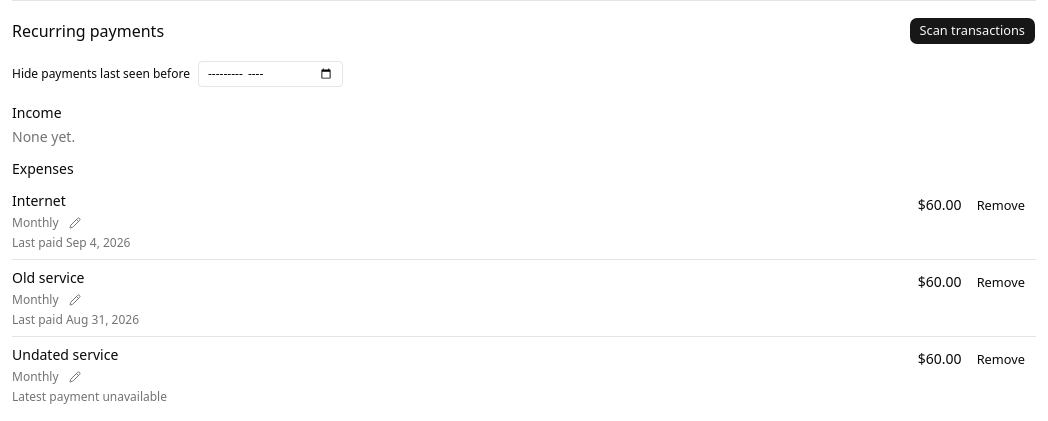
it: hides payments before the chosen month without hiding unknown dates
The width and height of the screenshot is (1048, 421).
Expected: the text "Old service" is shown, [12,268,84,287]
Type "2026-09" into the field labelled "Hide payments last seen before" at (270, 74), box [198,61,343,87]
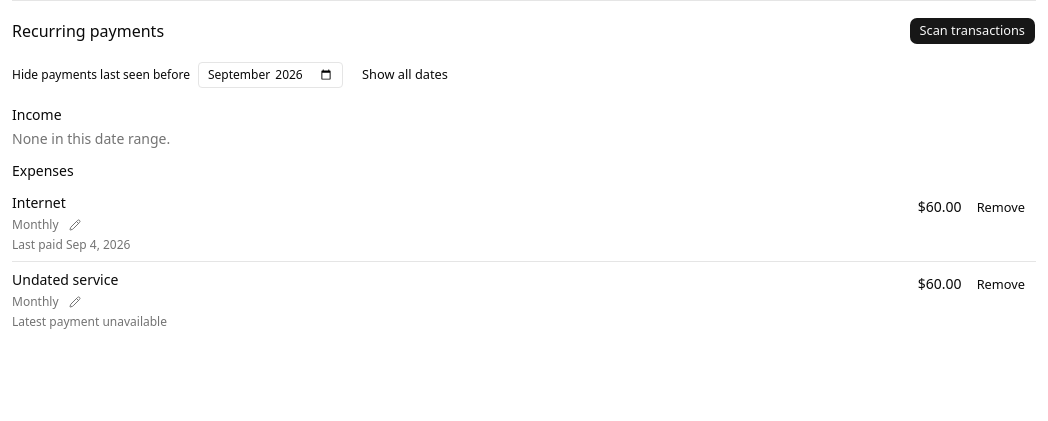
Expected: the text "Internet" is shown, [12,193,66,212]
Now the text "Old service" is gone
Click the button "Show all dates" at (405, 75), box [351,61,459,89]
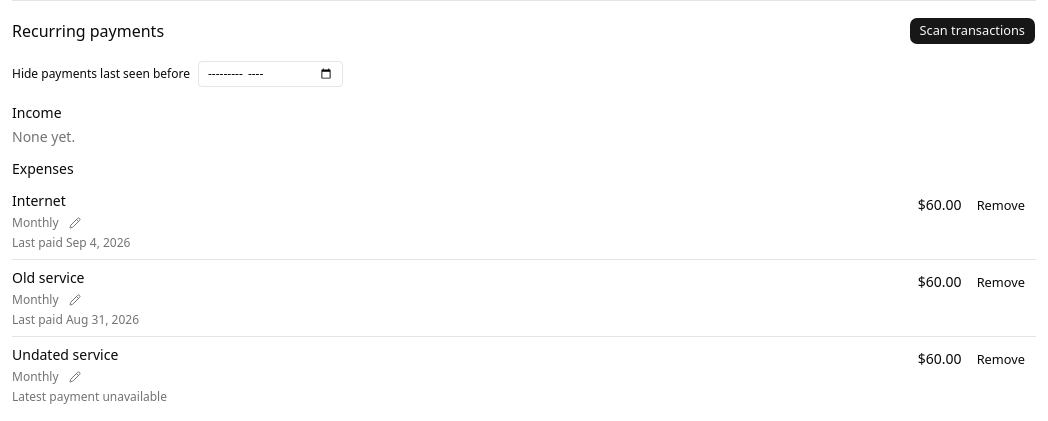
Now the text "Old service" is shown, box [12,268,84,287]
